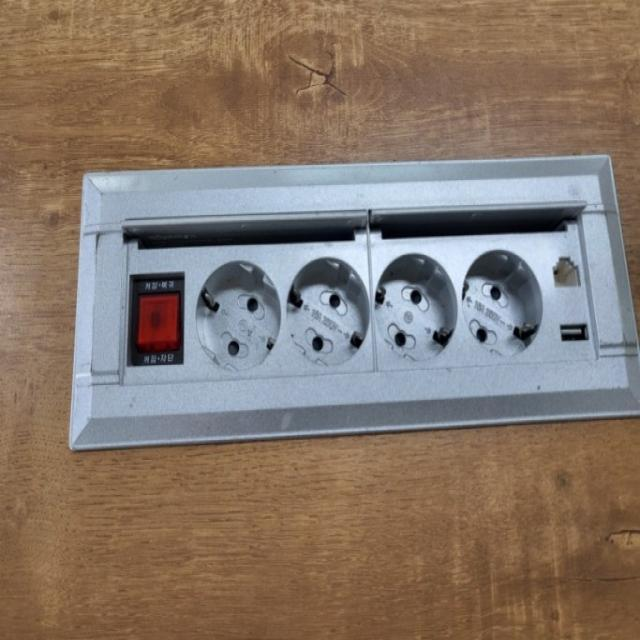typeb: (72, 155, 640, 539)
